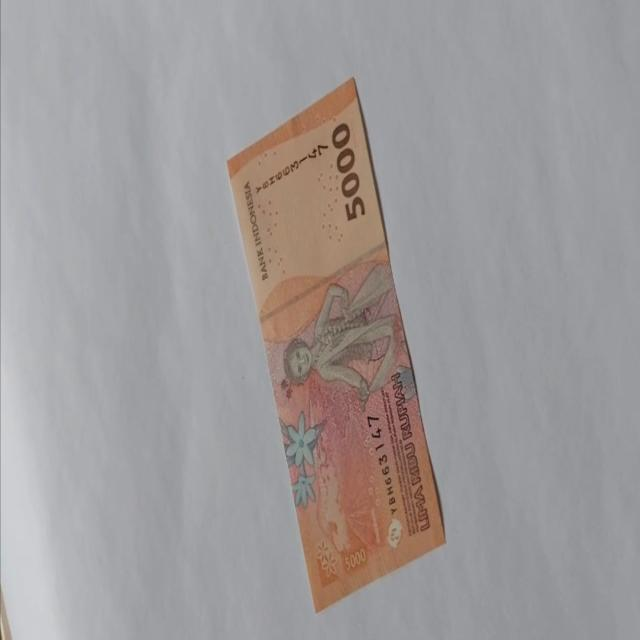lima ribu rupiah: (226, 76, 447, 614)
